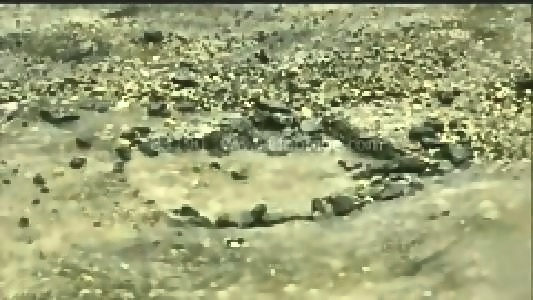pothole: (117, 110, 432, 229)
